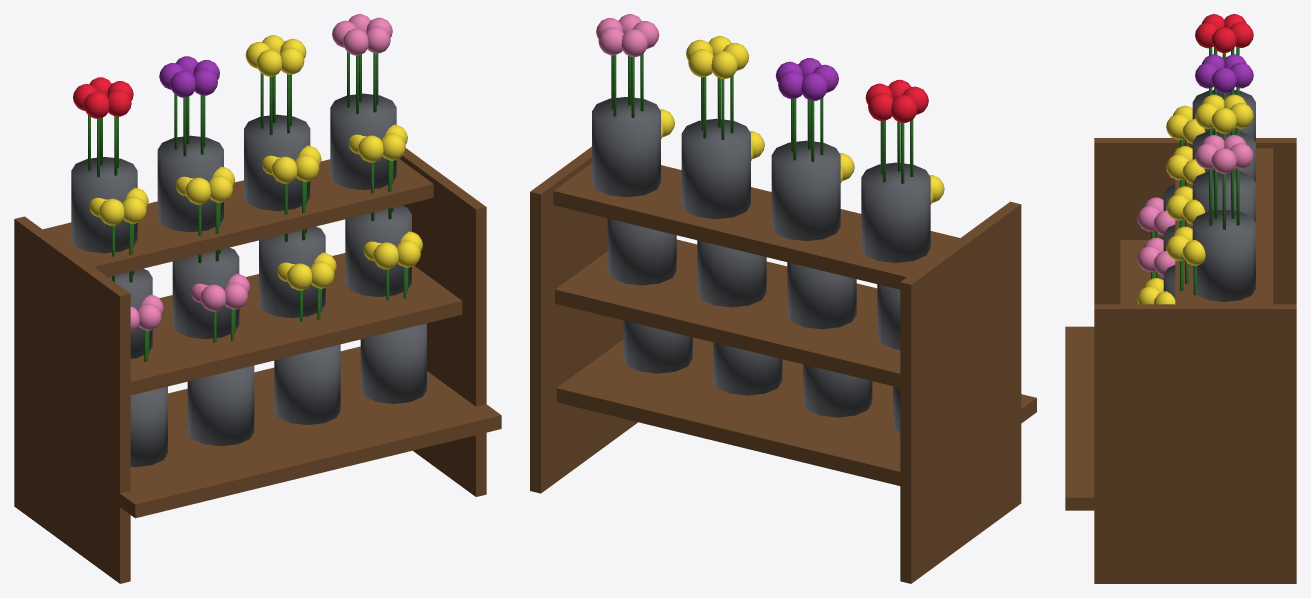
File: flower_stand.glb
3 views of the same model, side by side, from view 1: azimuth 30°, elevation 25°; view 2: azimuth 150°, elevation 25°; view 3: azimuth 270°, elevation 25° (orthographic). The views are drawn at different scales.
Parts seen in each view (by area): view 1: flower_stand; view 2: flower_stand; view 3: flower_stand.
Boxes of the visible parts, x1=… form: flower_stand: x1=14, y1=14, x2=501, y2=583; flower_stand: x1=530, y1=14, x2=1036, y2=583; flower_stand: x1=1065, y1=14, x2=1296, y2=583.
Bounding box in the file's own units: 1.4 × 1.59 × 0.8.
1 material, 1 textured.
